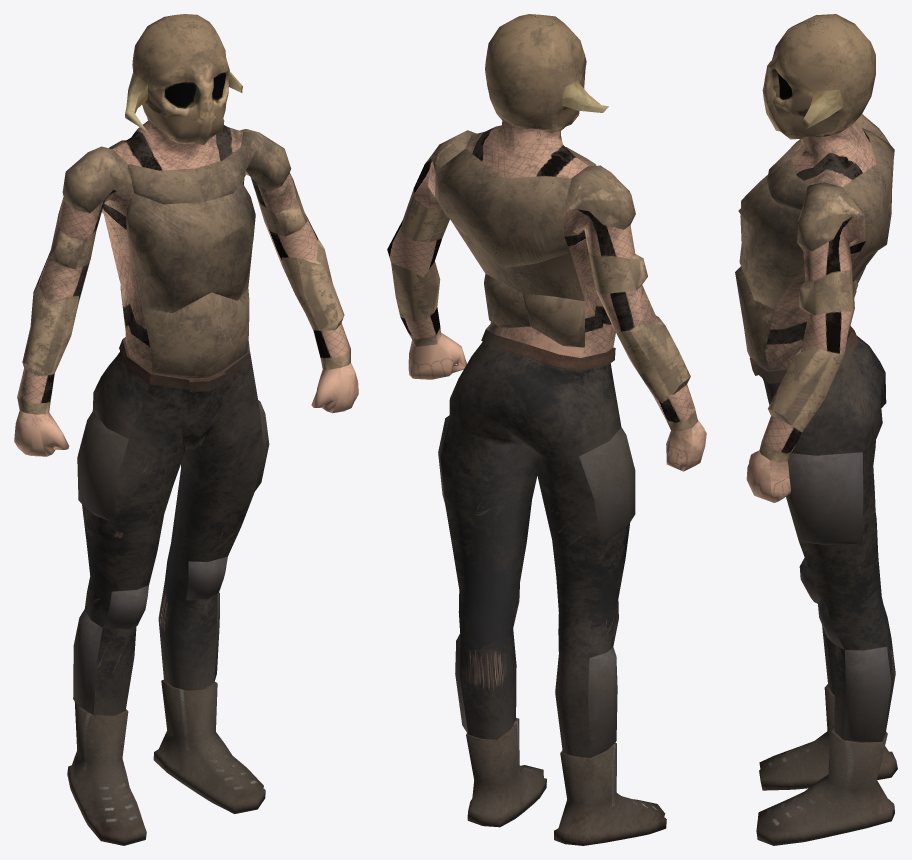
File: Anim_cogerobjeto_npc1.0042.obj
3 renders of one model, left to right at view 1: azimuth 30°, elevation 25°; view 2: azimuth 150°, elevation 25°; view 3: azimuth 270°, elevation 25°, orthographic. The views are drawn at different scales.
Visible parts, largest first — view 1: NPC2; view 2: NPC2; view 3: NPC2.
Part boxes in pixels (bbox=[...]): NPC2: bbox=[14, 14, 358, 845]; NPC2: bbox=[387, 14, 706, 845]; NPC2: bbox=[735, 14, 897, 845].
Bounding box in the file's own units: 4.09 × 9.83 × 1.81.
